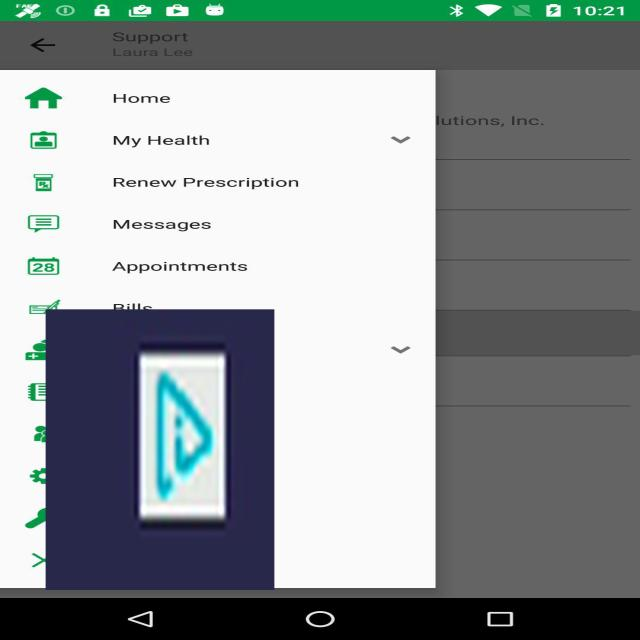sneaking: (46, 309, 274, 590)
